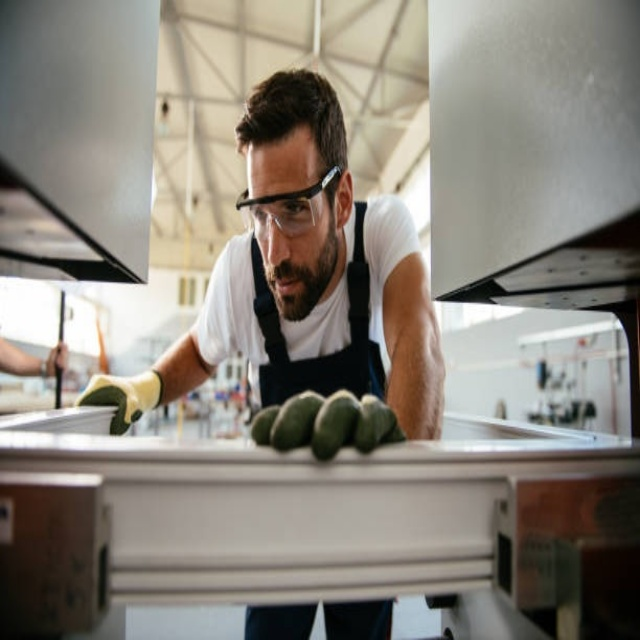Gafas: (237, 166, 342, 235)
Guantes: (248, 389, 407, 461), (75, 367, 165, 434)
Sin_guantes: (45, 341, 69, 381)
Sin_mascara: (267, 264, 313, 311)
